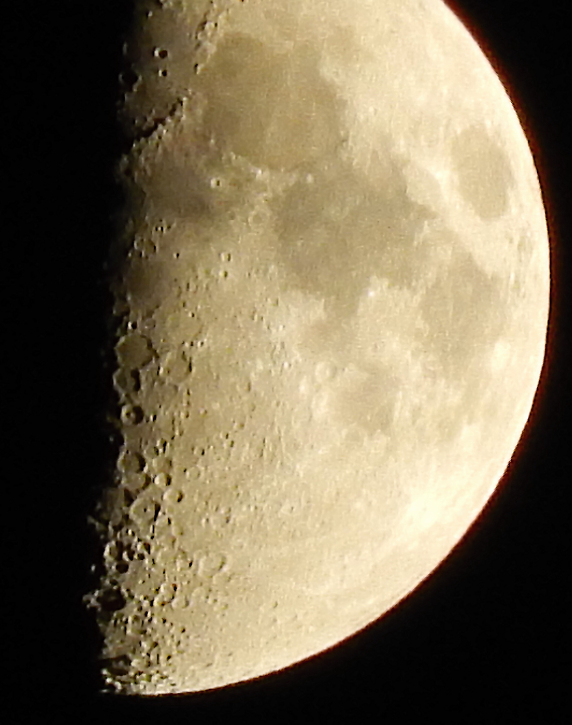crater: (156, 343, 205, 395), (86, 581, 141, 626), (196, 542, 237, 582), (296, 156, 323, 207), (115, 395, 149, 433), (311, 351, 343, 389), (147, 25, 170, 59), (148, 61, 180, 85), (160, 487, 191, 511), (209, 244, 240, 267), (163, 244, 192, 268), (201, 171, 227, 196)
